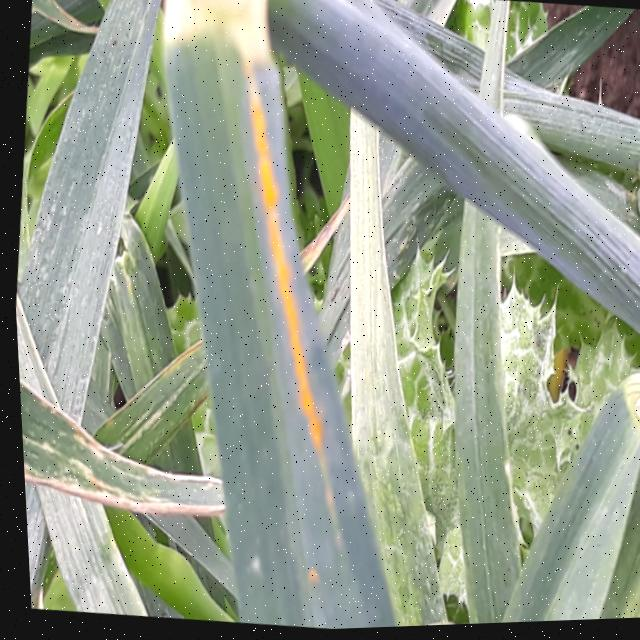yellow_rust: (0, 0, 570, 626)
